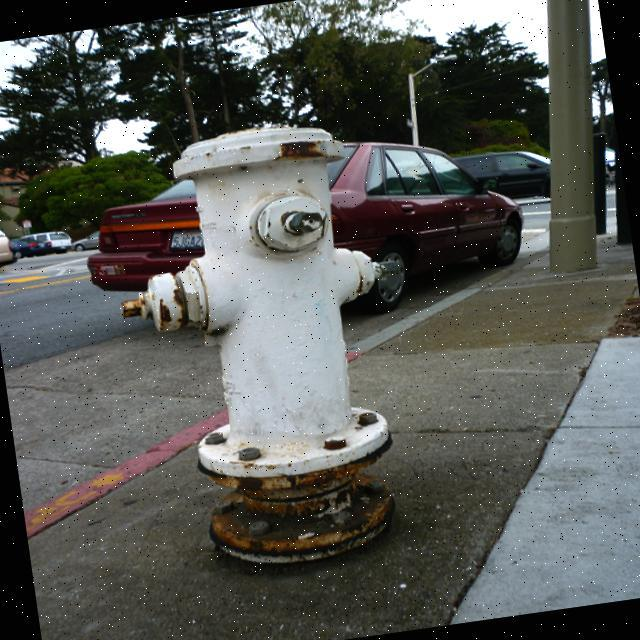fire_hydrant: (89, 104, 450, 588)
